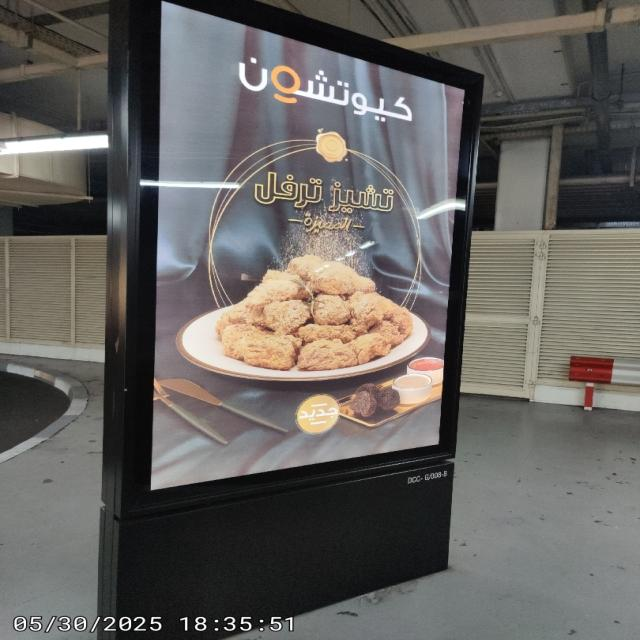mupi: (123, 5, 485, 638)
